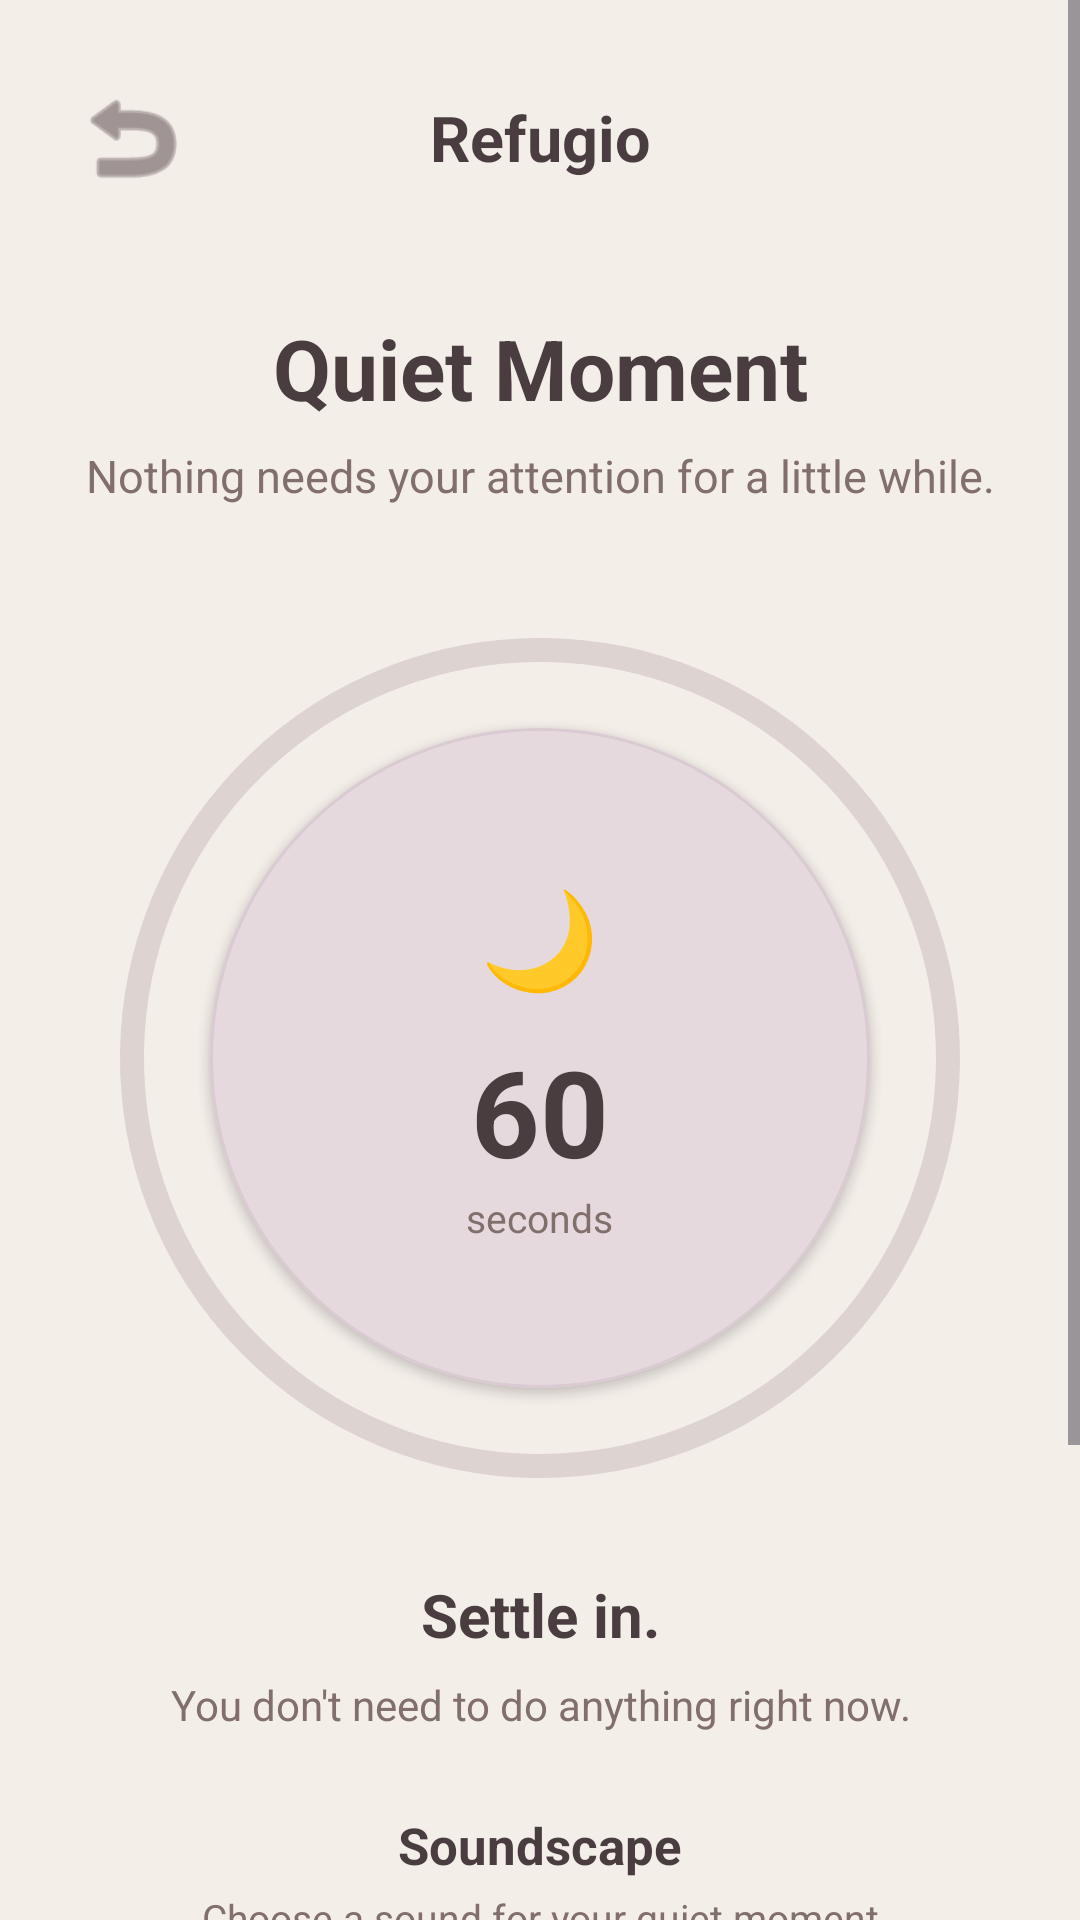

Icons on this 1080px x 1920px Android screen, each with its box as Rect(x1, y1, x2, y2):
Back: Rect(91, 100, 177, 178)
